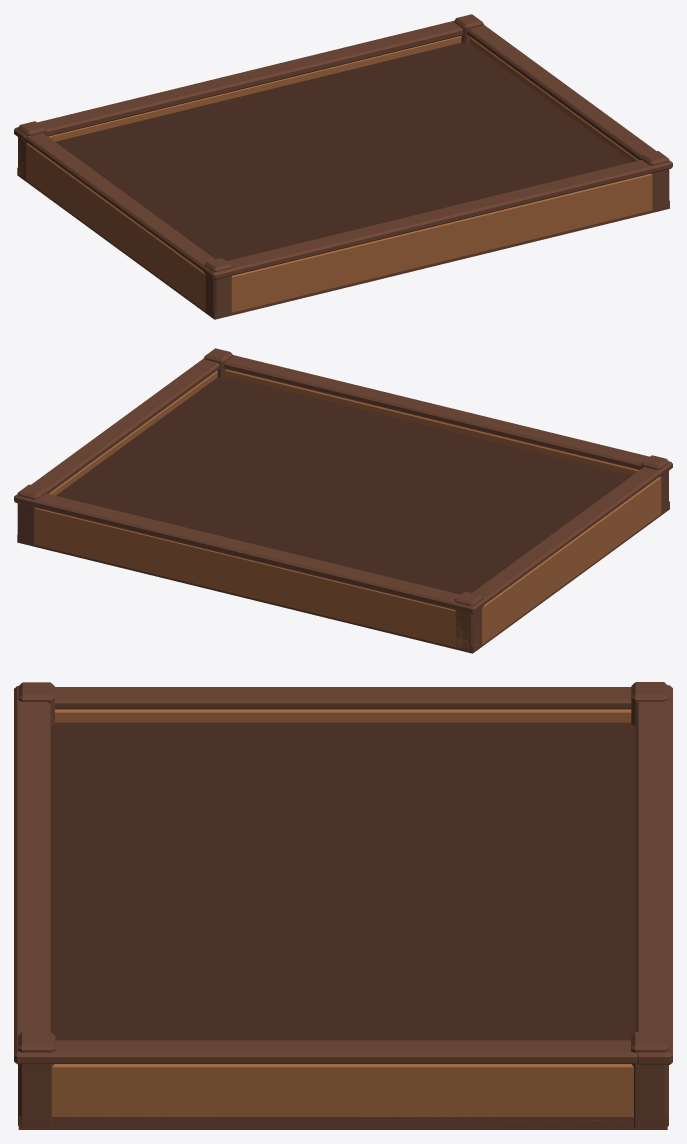
File: CropBed_Frame.fbx
3 views of the same model, one above another, from view 1: azimuth 30°, elevation 25°; view 2: azimuth 150°, elevation 25°; view 3: azimuth 270°, elevation 25° (orthographic). The views are drawn at different scales.
Parts seen in each view (by area): view 1: CropBed_Frame; view 2: CropBed_Frame; view 3: CropBed_Frame.
Boxes of the visible parts, bbox=[...] form: CropBed_Frame: bbox=[14, 14, 672, 319]; CropBed_Frame: bbox=[14, 348, 672, 653]; CropBed_Frame: bbox=[14, 682, 672, 1129].
Size of the model in its own units: 4.05 by 0.4362 by 3.05.
